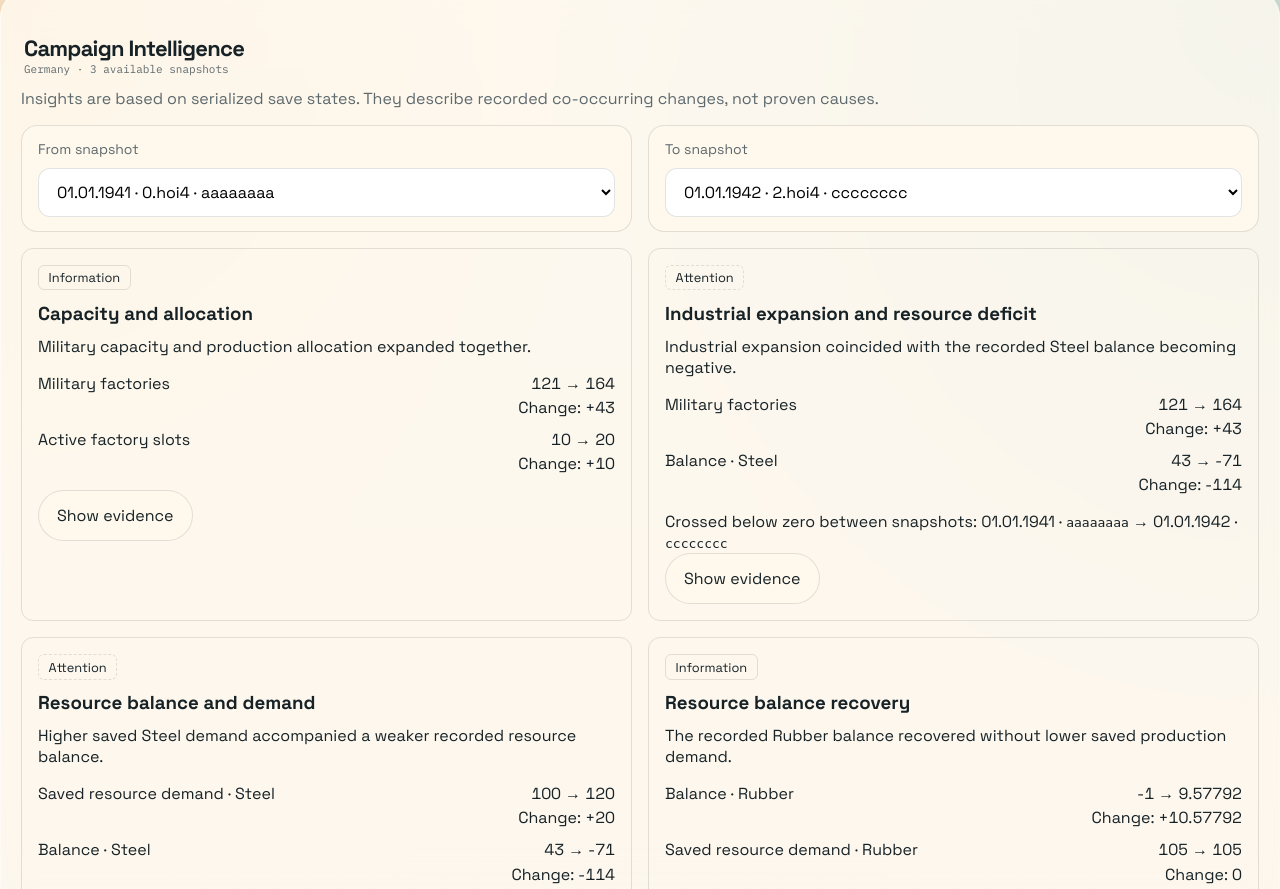
Test: Campaign Intelligence frontend › missing evidence and explicit zero stay different
The image size is (1280, 889).
Click the button "Show evidence" below "Capacity and allocation". click: coordinates (115, 516)
box: [38,490,193,541]
(page scrolled)
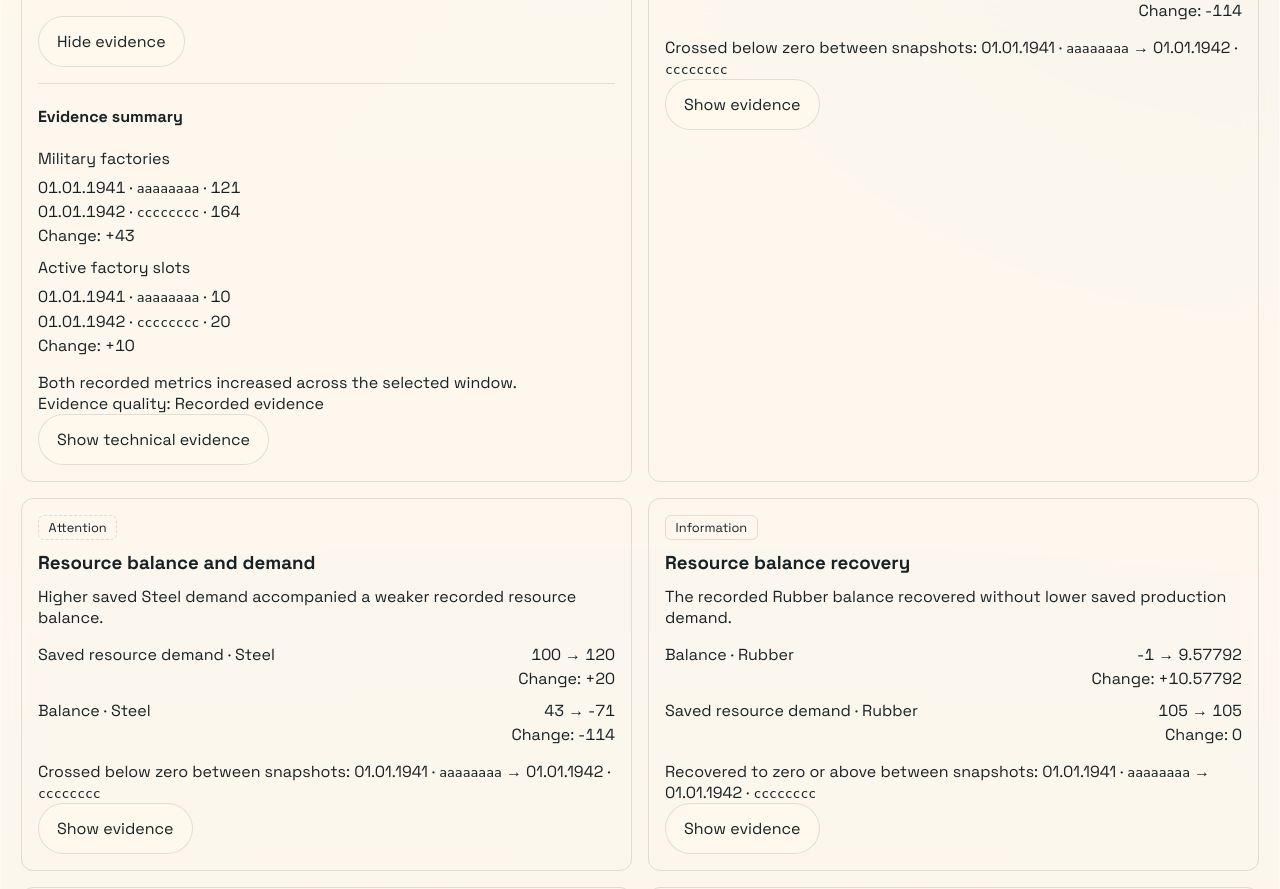
Click the button "Show technical evidence". click: coordinates (154, 439)
box: [38,414,269,465]
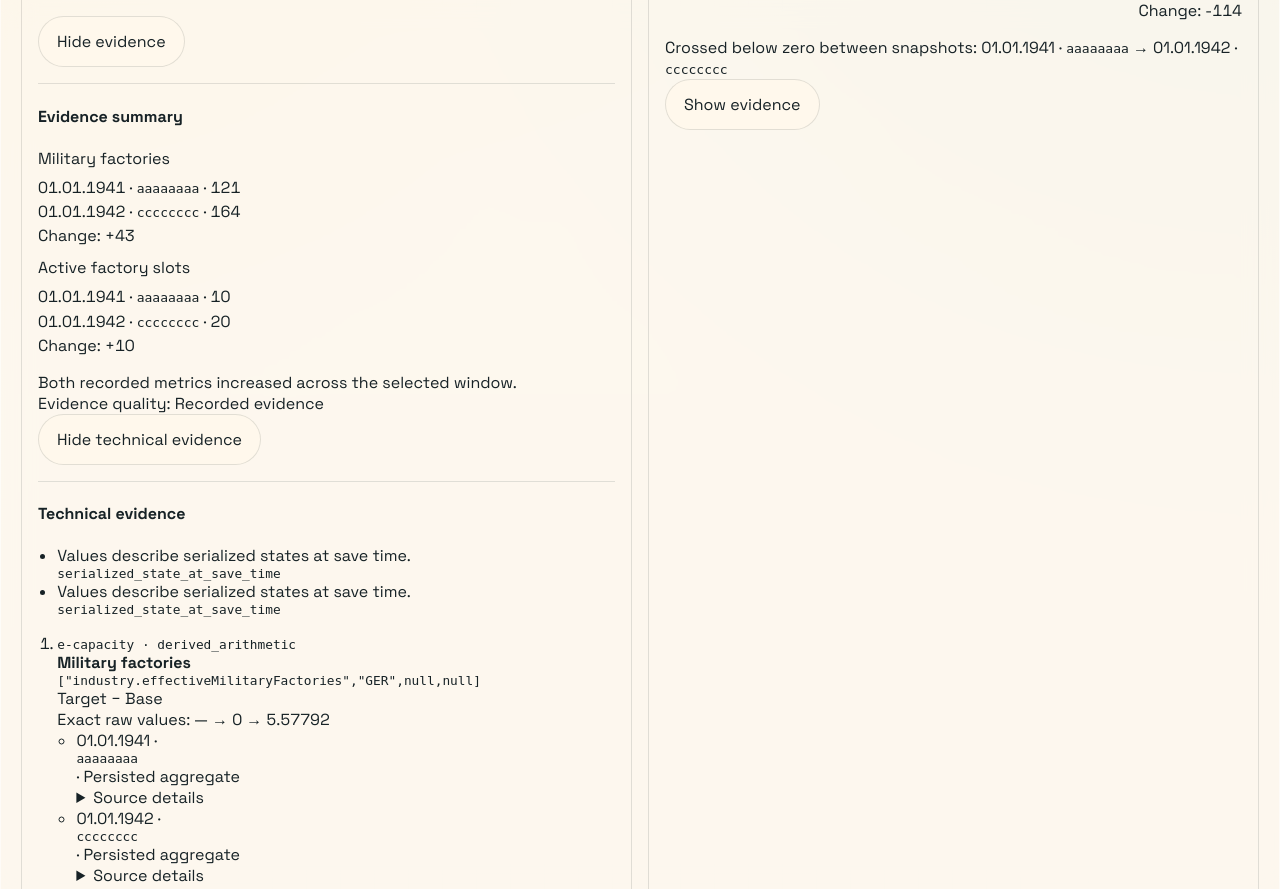
Expected: the text "— → 0 → 5.57792" is shown, [194,709,330,730]
